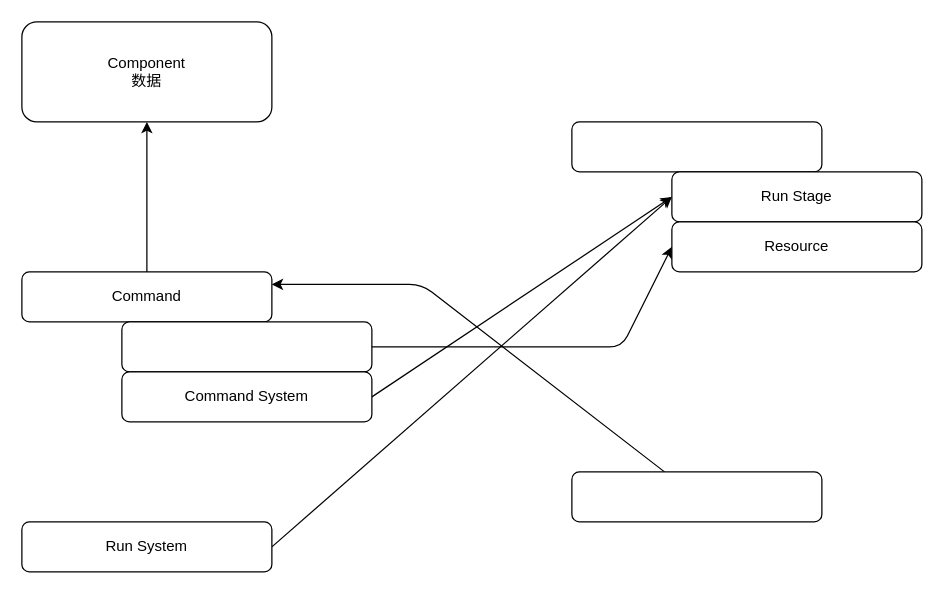
The diagram is 944 pixels wide and 594 high, and some of its shapes have lost their labels. The centre of each missing label's shape, as x and y in pixels:
Command Queue: (x=246, y=346)
Interface: (x=696, y=496)
Plugin: (x=696, y=146)
